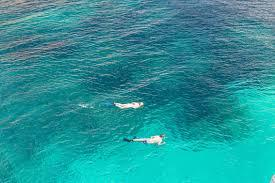swimmer: (125, 135, 166, 147), (113, 101, 144, 109)
